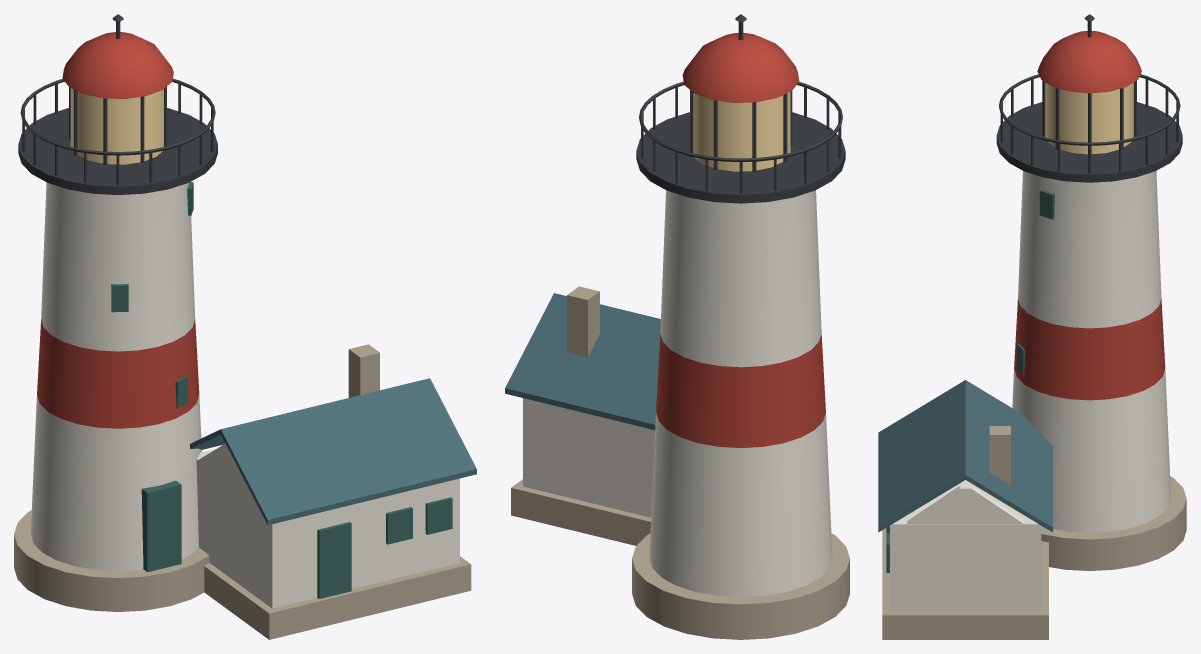
Rendered from lighthouse.glb.
3 renders of one model, left to right at view 1: azimuth 30°, elevation 25°; view 2: azimuth 150°, elevation 25°; view 3: azimuth 270°, elevation 25°, orthographic. The views are drawn at different scales.
Visible parts, largest first — view 1: lighthouse; view 2: lighthouse; view 3: lighthouse.
Part boxes in pixels (<box>): lighthouse: <box>14,14,476,639</box>; lighthouse: <box>505,14,849,639</box>; lighthouse: <box>878,14,1186,639</box>.
Bounding box in the file's own units: 9.3 × 14.68 × 7.95.
